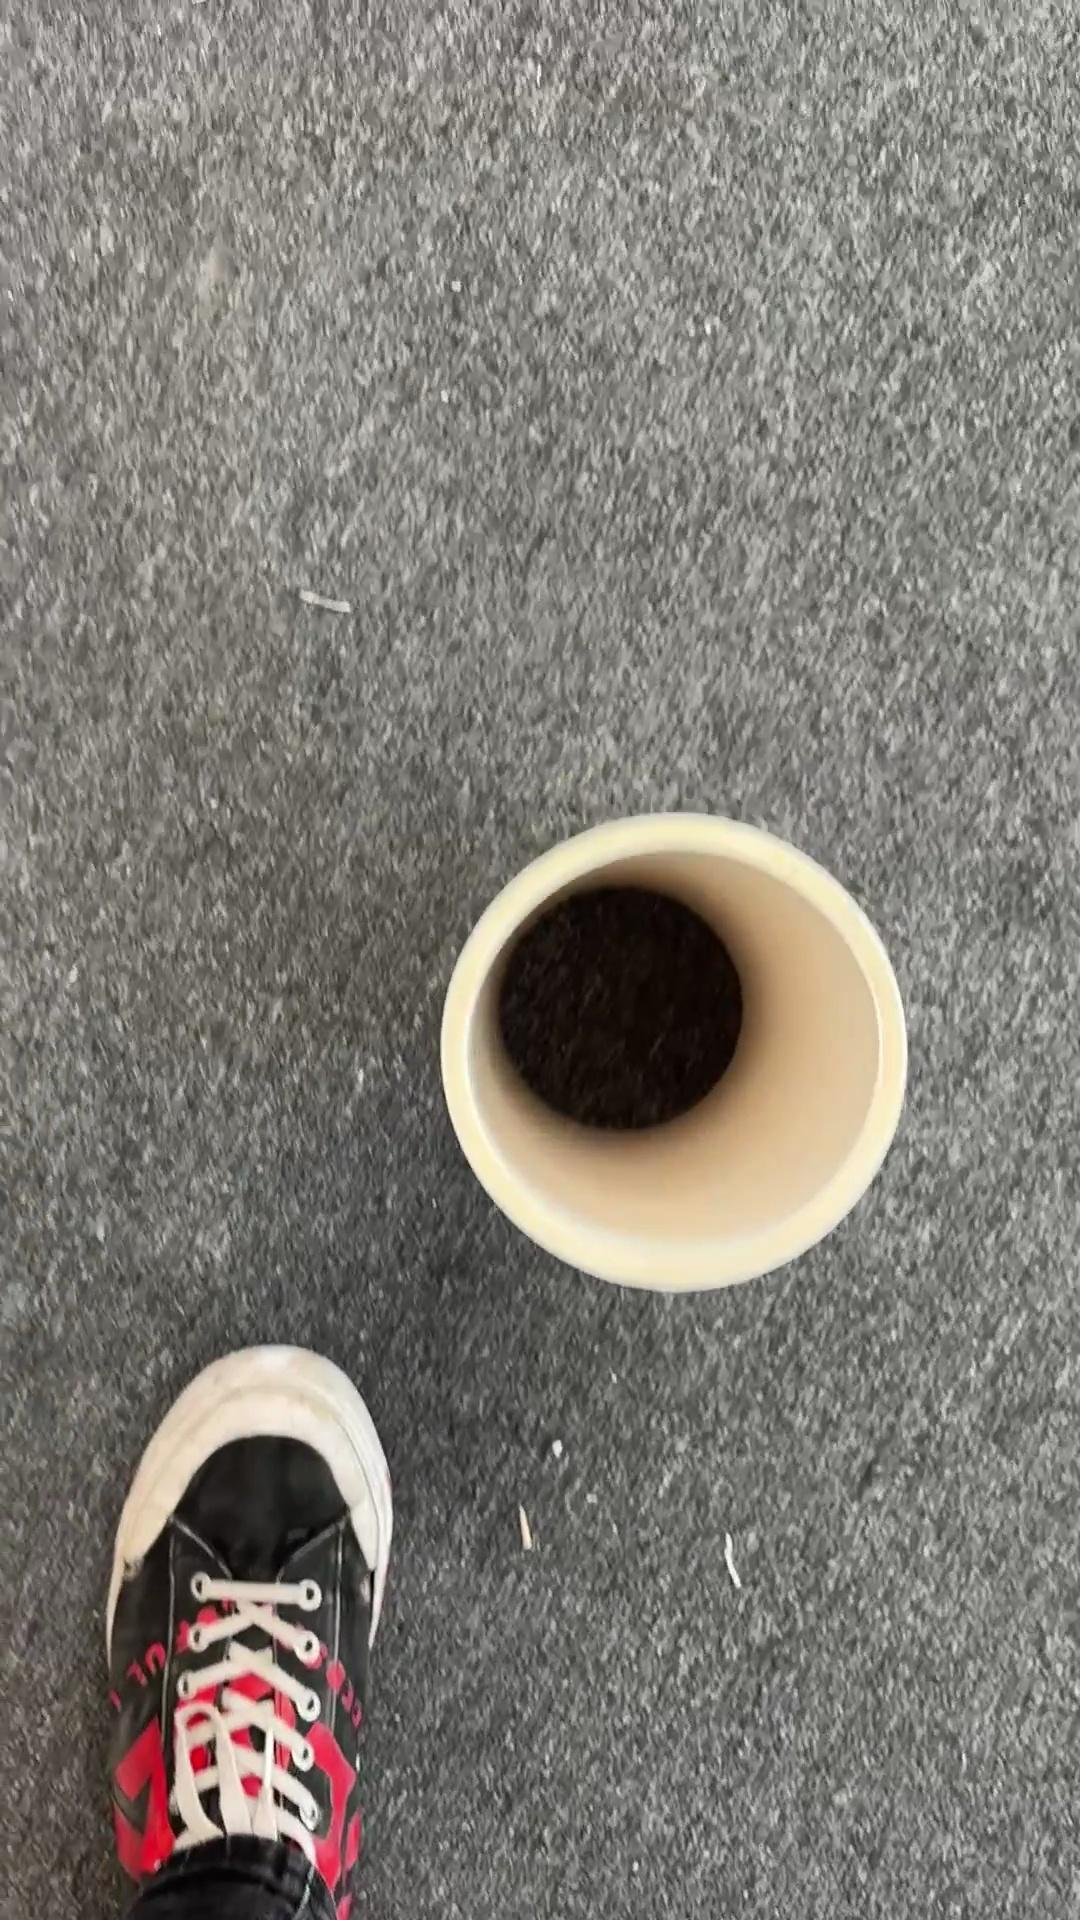CORAL: (436, 807, 910, 1295)
